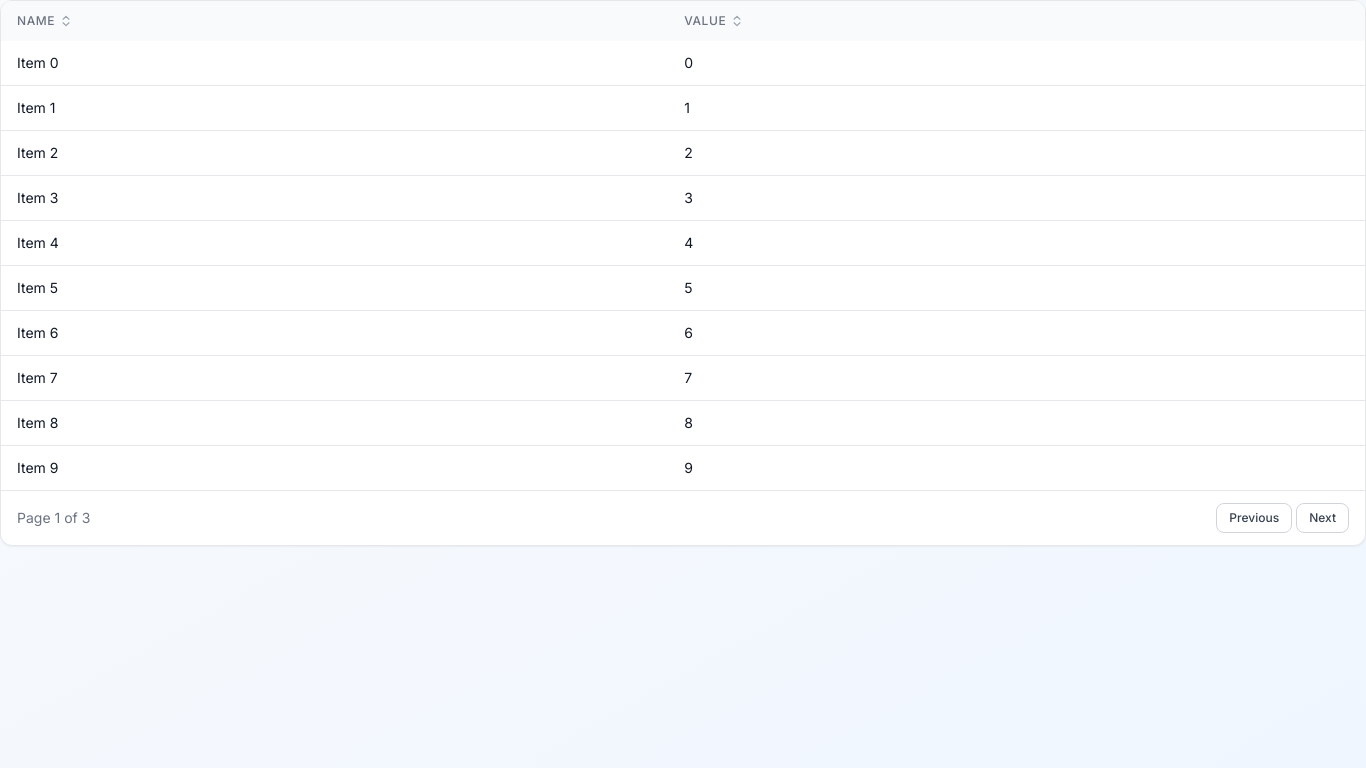
it: DataTable › navigates pages
Step 1. Click the button "Next" → point(1323, 518), box [1296, 503, 1349, 533]
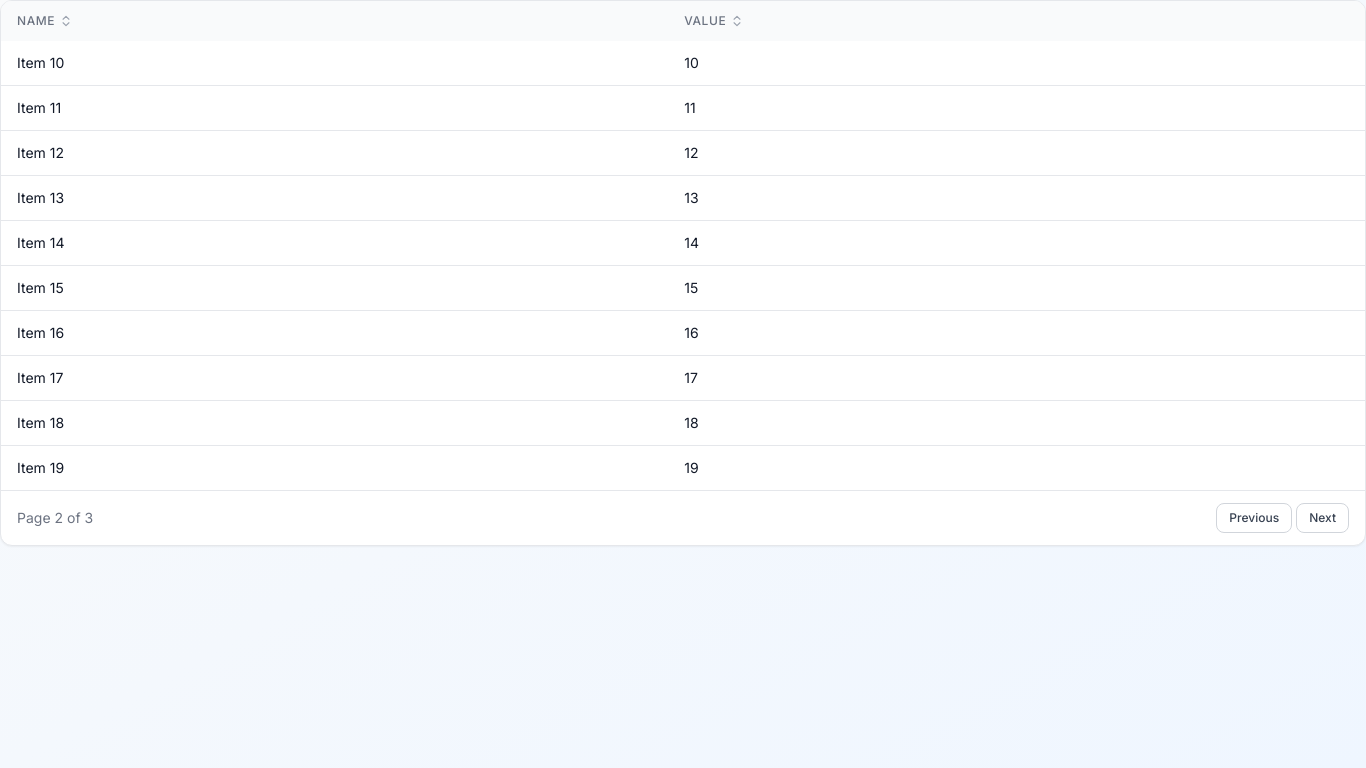
expect the text "Page 2 of 3" is shown: met, box [17, 508, 93, 528]
